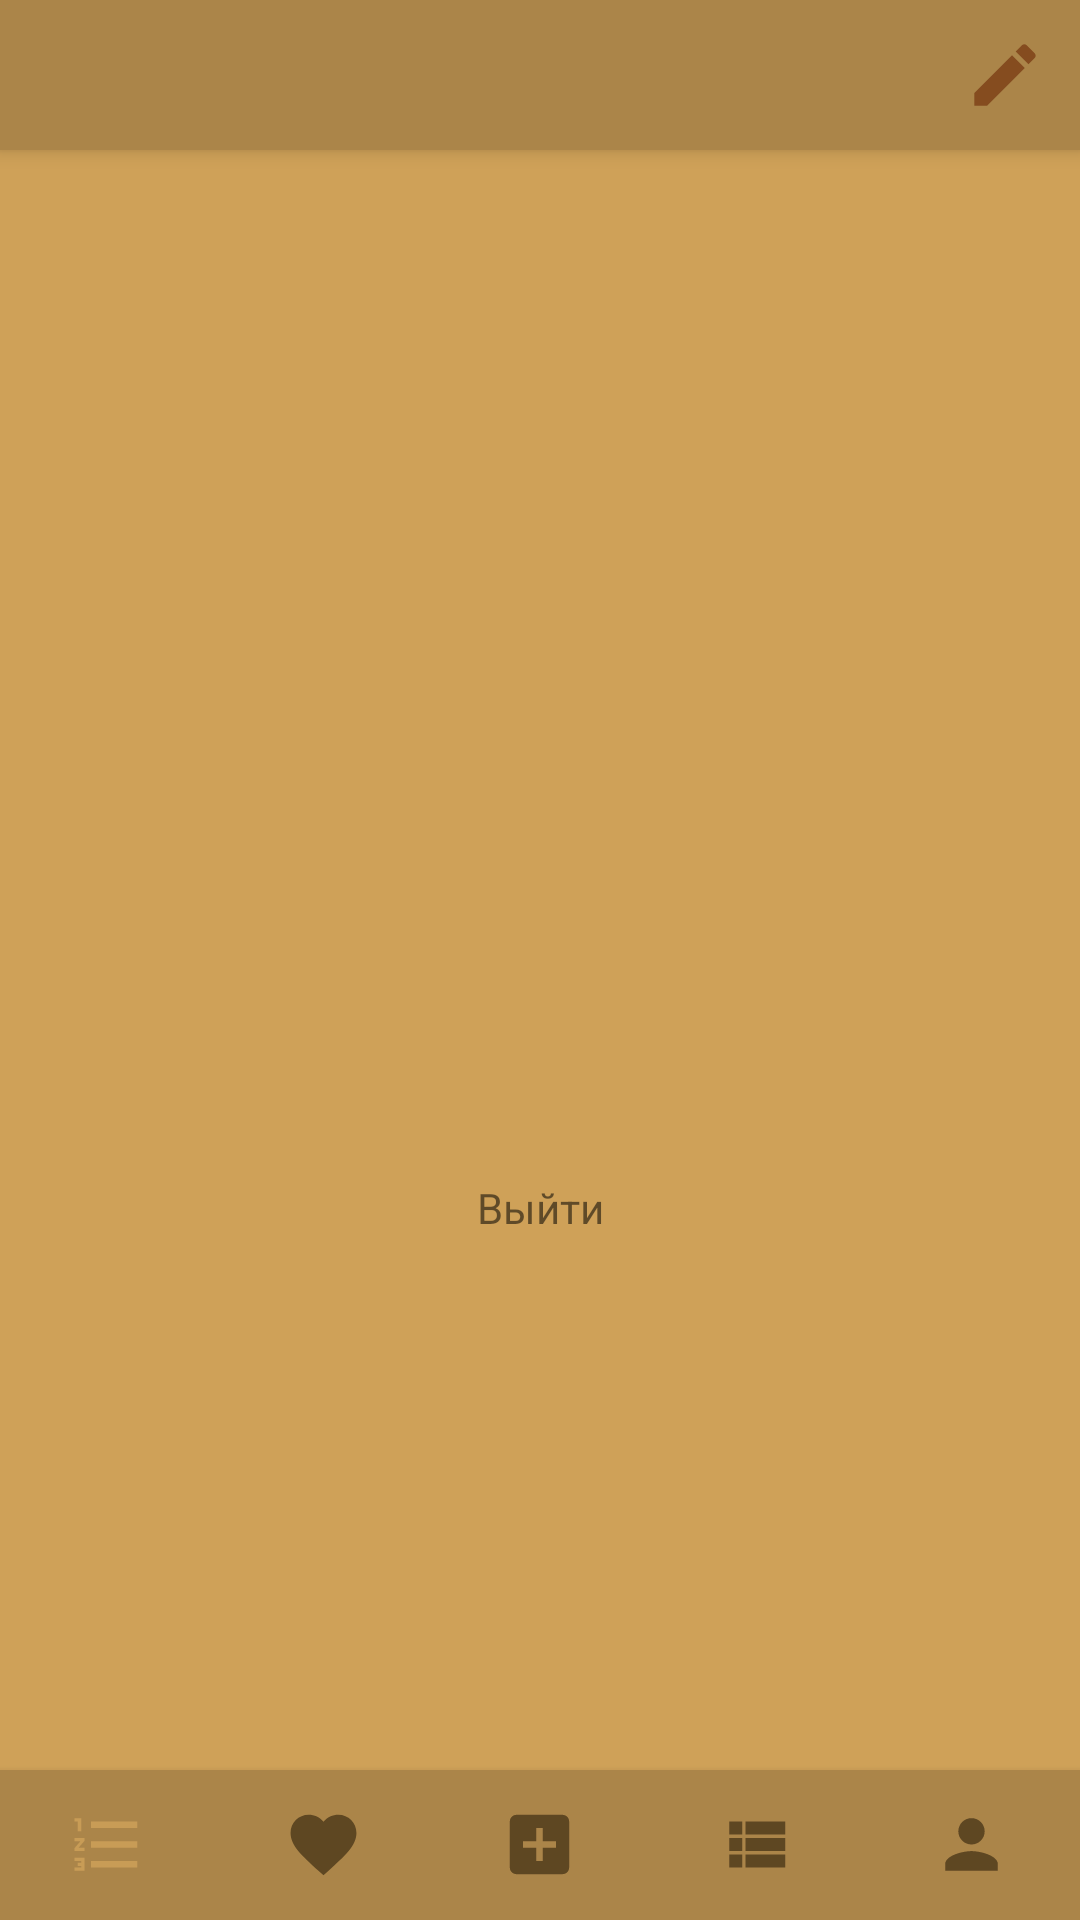

Icons on this 1080 x 1920 Android screen, each with the point to tap as [x,y]:
edit: [1005,75]
